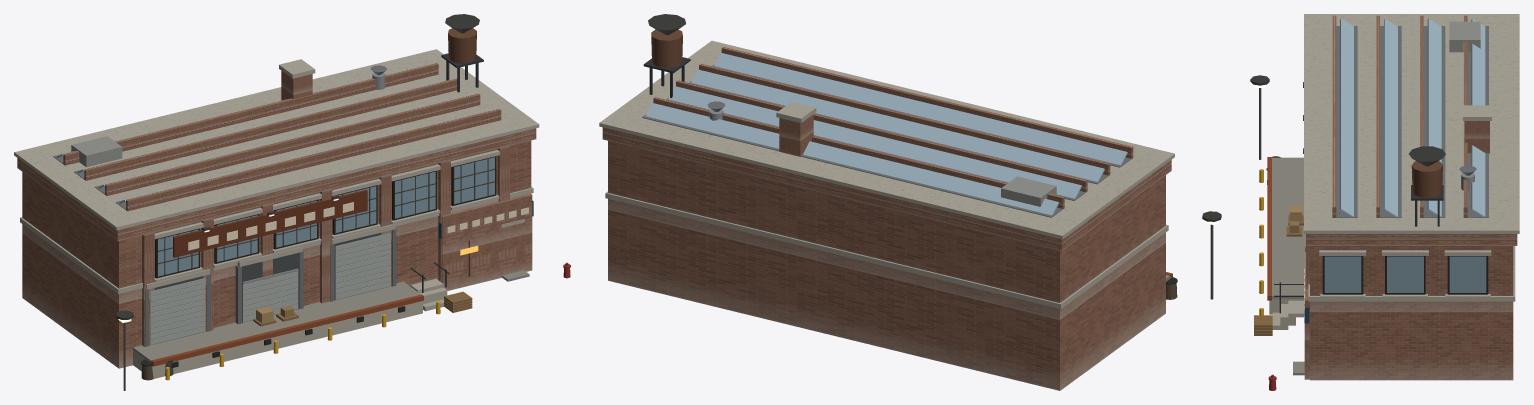
The model's file is jersey_warehouse.glb.
3 views of the same model, side by side, from view 1: azimuth 30°, elevation 25°; view 2: azimuth 150°, elevation 25°; view 3: azimuth 270°, elevation 25° (orthographic). The views are drawn at different scales.
Size of the model in its own units: 35.67 by 15.5 by 17.22.
Materials: 6 (6 with a texture image).
